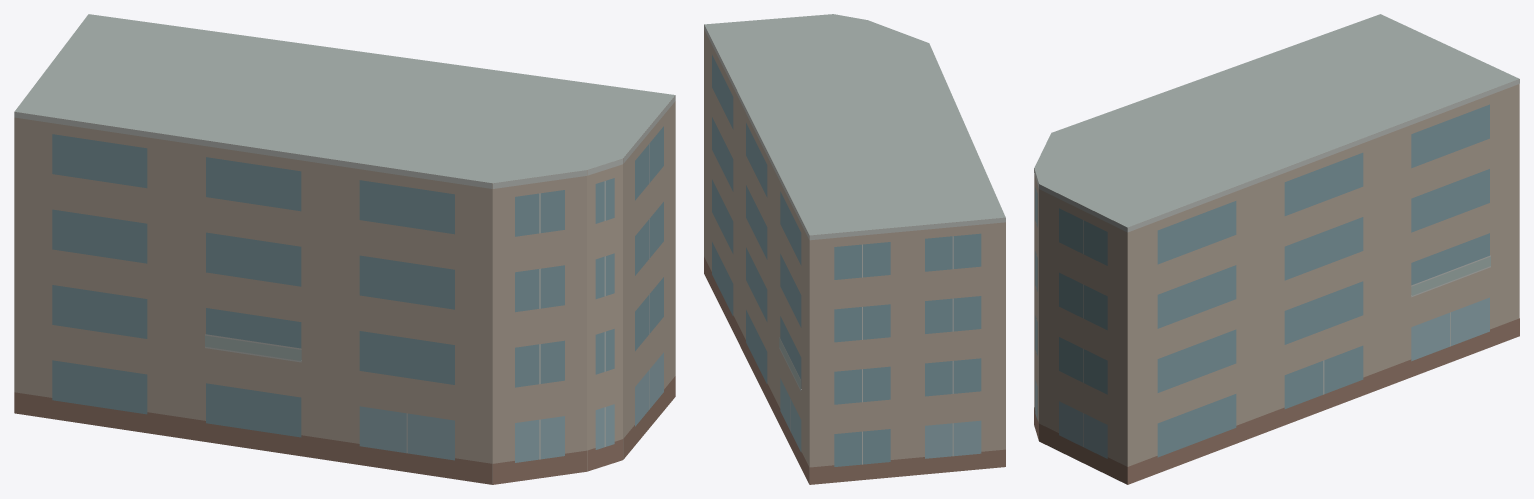
File: survey-upis-32629688.glb
The picture shows the model from 3 angles, left to right: view 1: azimuth 30°, elevation 25°; view 2: azimuth 150°, elevation 25°; view 3: azimuth 270°, elevation 25°; orthographic projection. The views are drawn at different scales.
Parts seen in each view (by area): view 1: survey-upis-32629688.tmp; view 2: survey-upis-32629688.tmp; view 3: survey-upis-32629688.tmp.
Boxes of the visible parts, left/top/right/bottom form: survey-upis-32629688.tmp: left=14, top=14, right=675, bottom=484; survey-upis-32629688.tmp: left=704, top=14, right=1005, bottom=484; survey-upis-32629688.tmp: left=1034, top=14, right=1519, bottom=484.
Size of the model in its own units: 22.62 by 12.7 by 21.73.
